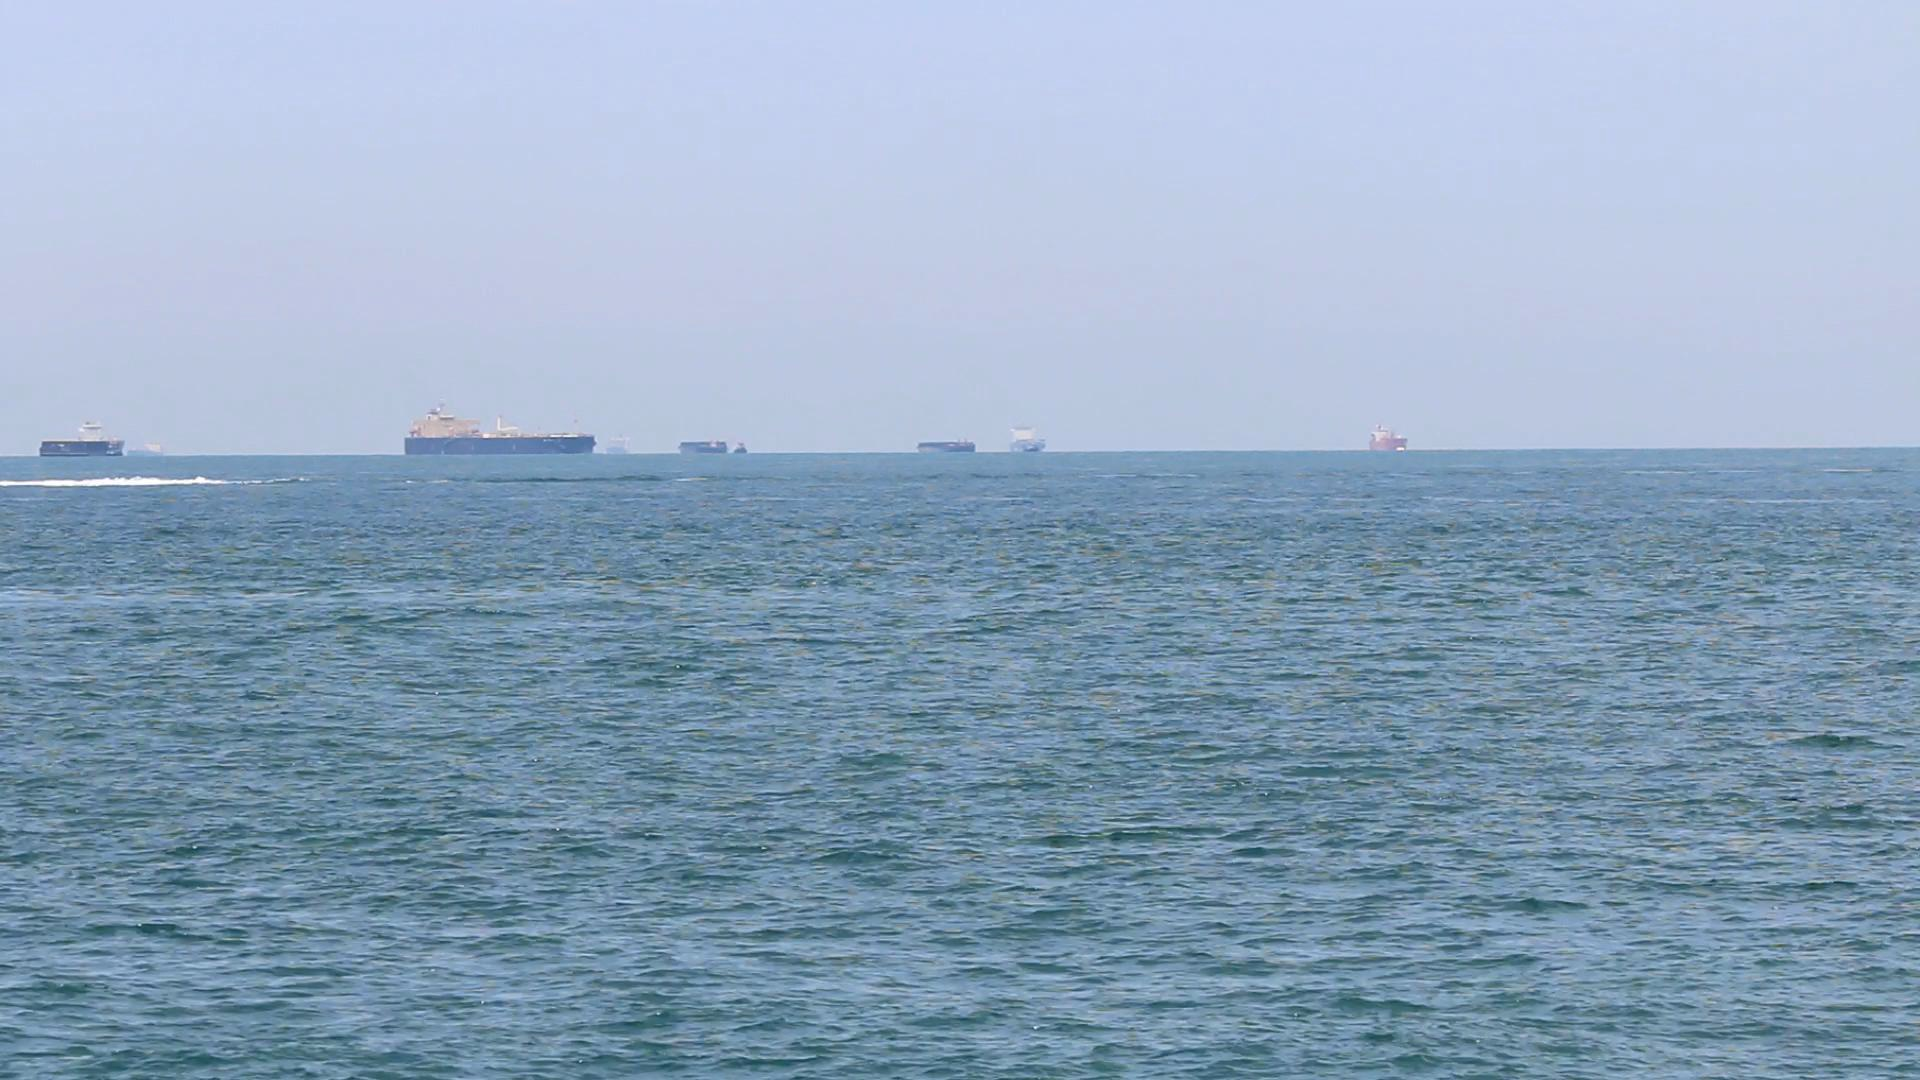Container Ship: (402, 398, 596, 456), (38, 417, 133, 456), (1367, 419, 1411, 455), (1006, 419, 1047, 452), (915, 434, 977, 452), (129, 438, 179, 459), (675, 435, 733, 452), (605, 430, 637, 458), (729, 434, 752, 452)
